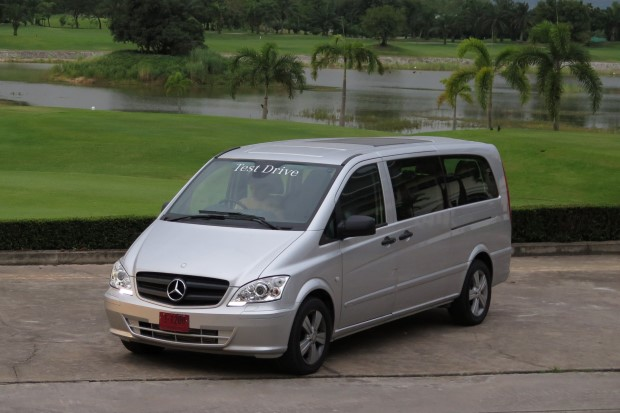van: (104, 133, 514, 375)
